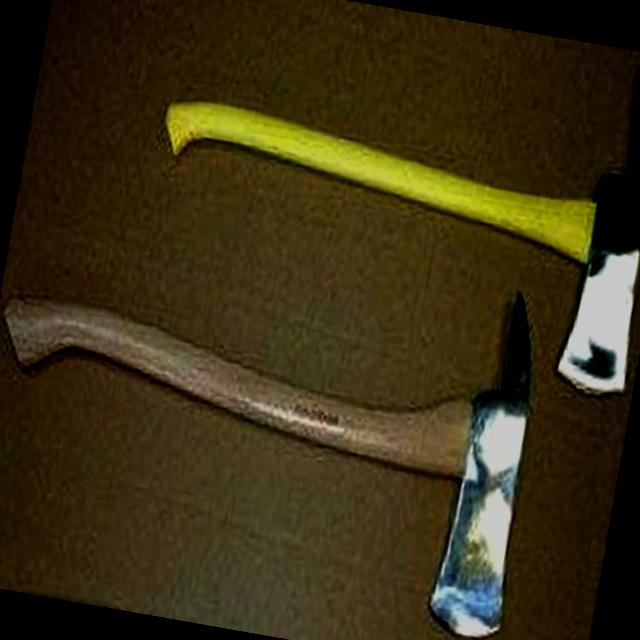ax: (0, 190, 572, 640), (122, 0, 640, 409)
